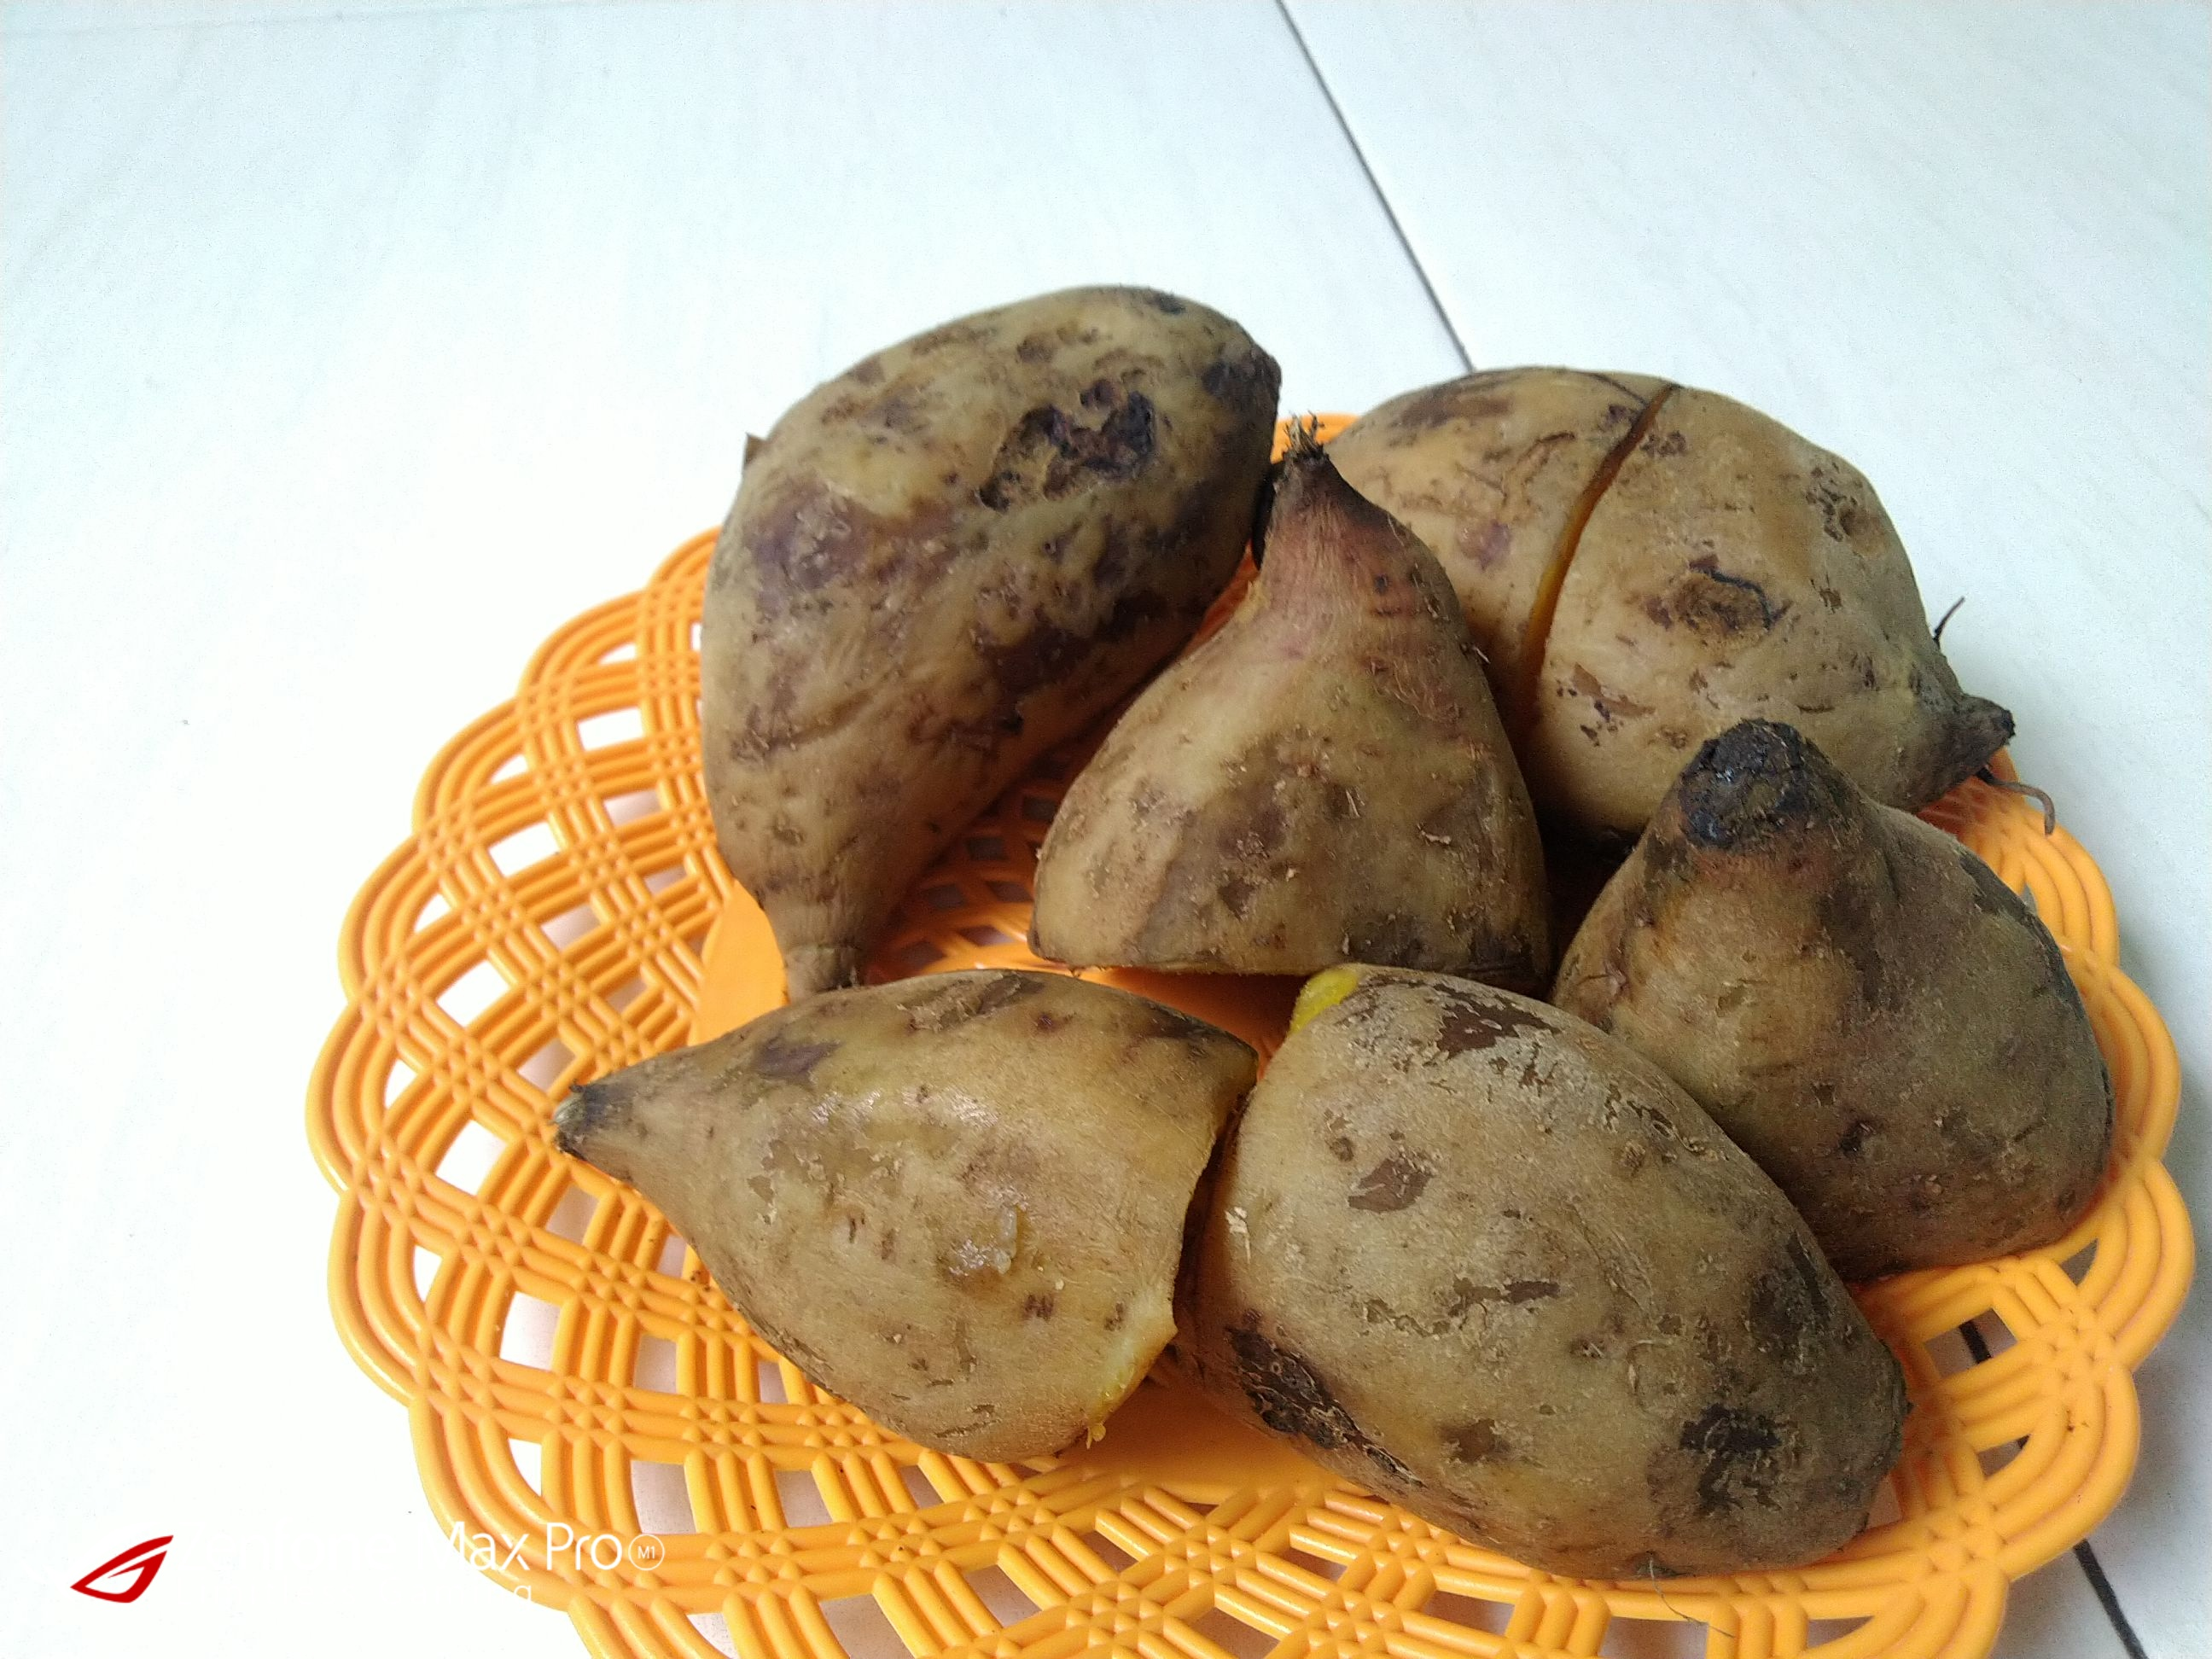ubi kuning: (676, 237, 1268, 993), (1202, 953, 1905, 1589), (509, 953, 1231, 1471), (1315, 361, 2054, 816), (1531, 701, 2121, 1269), (1015, 423, 1606, 967)
